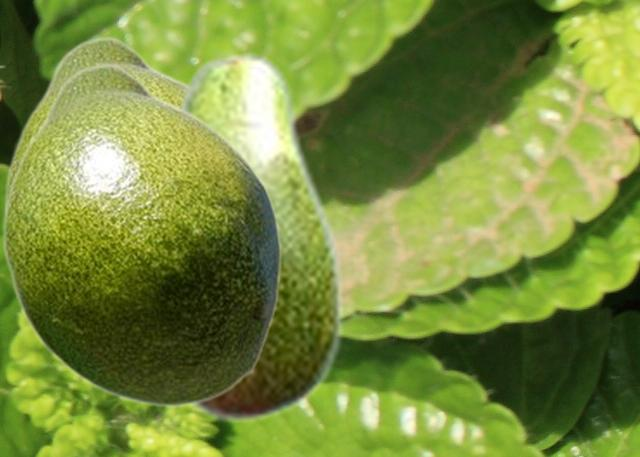avocado: (1, 63, 281, 408), (170, 48, 344, 425), (3, 36, 185, 206)
